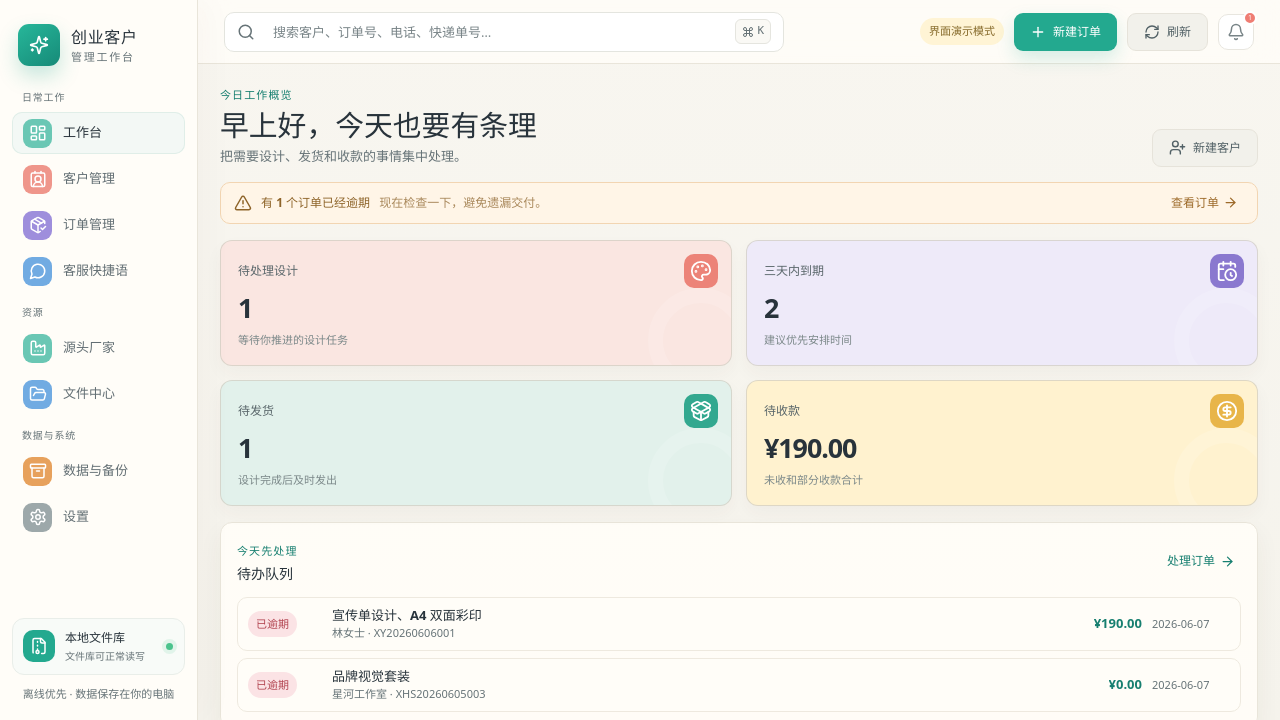
Test case: App › opens source factory management from the sidebar
The image size is (1280, 720).
Click the button "源头厂家". click: (98, 348)
box: [12,327,185,369]
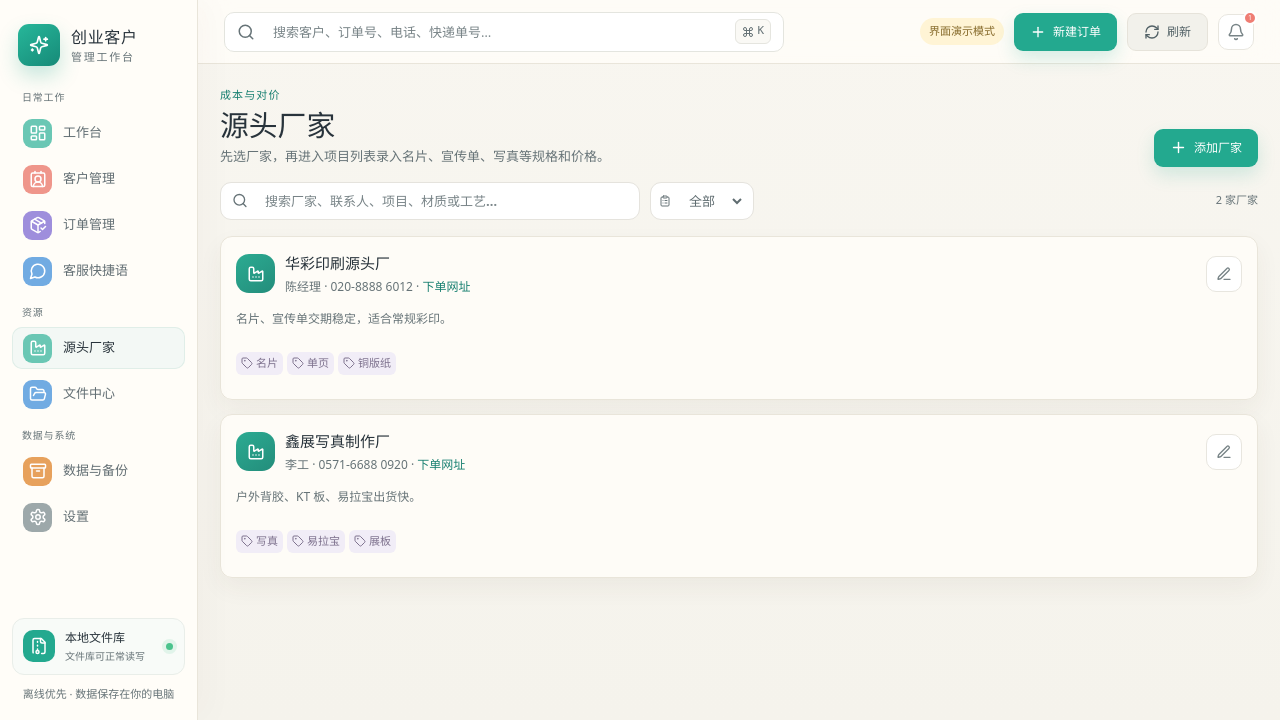
Check: the heading "源头厂家" is shown, box [220,105,335,144]
Check: the heading "华彩印刷源头厂" is shown, box [285,252,390,272]
